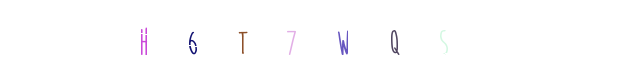6: (152, 0, 232, 80)
7: (272, 0, 352, 80)
H: (104, 0, 184, 80)
Q: (281, 0, 361, 80)
S: (302, 0, 382, 80)
T: (218, 0, 298, 80)
W: (272, 0, 352, 80)
